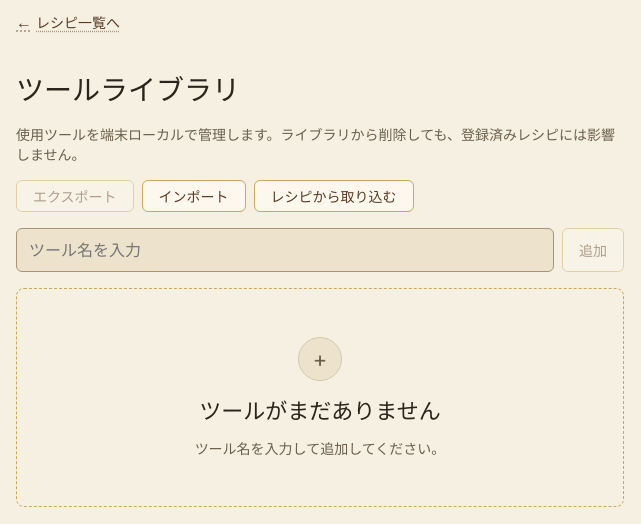
Test case: ToolsPage › 追加するとname昇順で一覧に反映される
expect the heading "ツールがまだありません" is shown: met, box [199, 393, 441, 426]
Type "筆" into the field with placeholder "ツール名を入力" at (285, 250), box [16, 228, 554, 272]
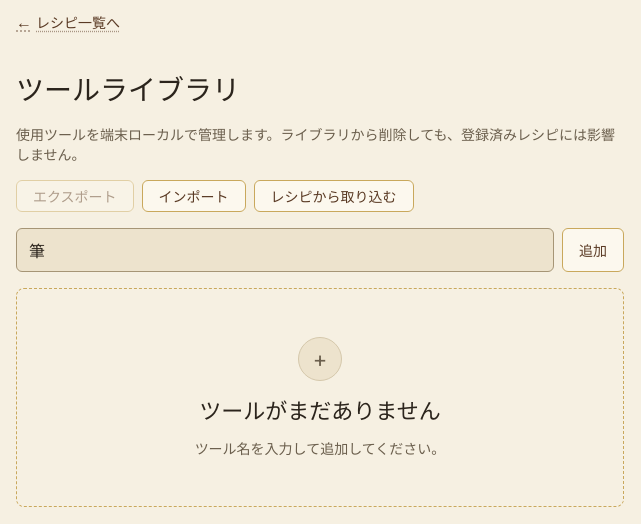
Click the button "追加" at (593, 250), box [562, 228, 624, 272]
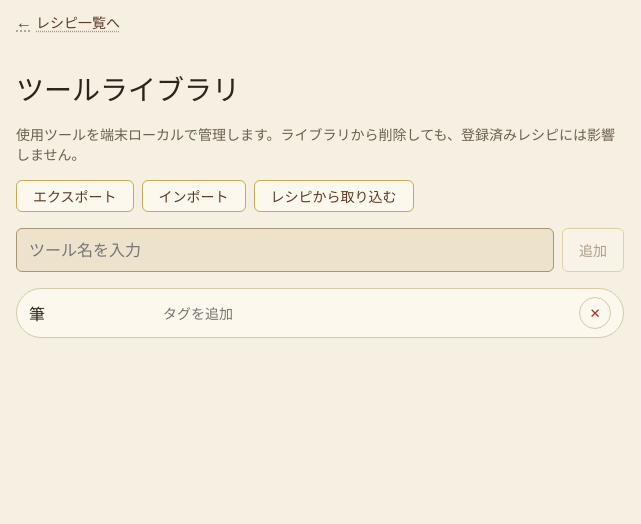
expect the field with placeholder "ツール名を入力" is empty: met
expect the text "筆" is shown: met, box [29, 304, 45, 324]
Type "エアブラシ" into the field with placeholder "ツール名を入力" at (285, 250), box [16, 228, 554, 272]
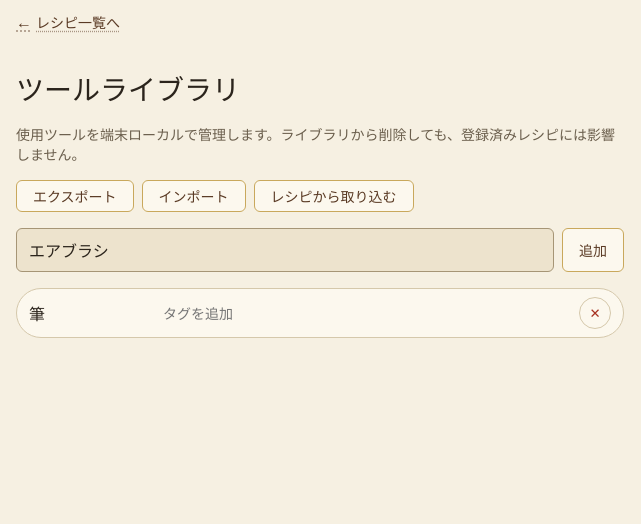
Click the button "追加" at (593, 250), box [562, 228, 624, 272]
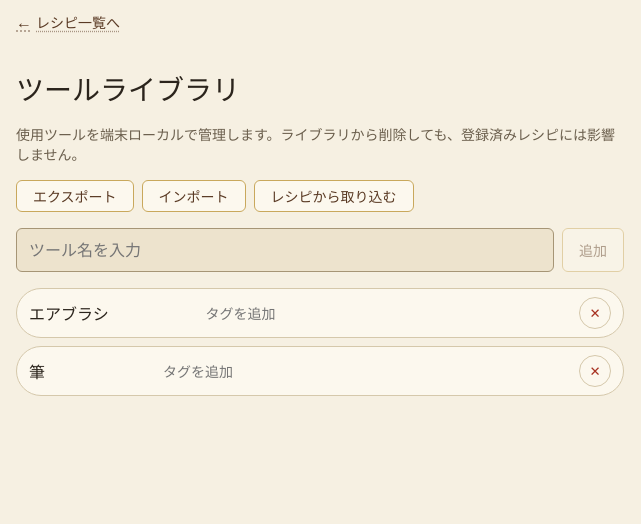
expect the field with placeholder "ツール名を入力" is empty: met, box [16, 228, 554, 272]
expect the number of list items is 2: met, box [16, 288, 624, 338]; [16, 346, 624, 396]
